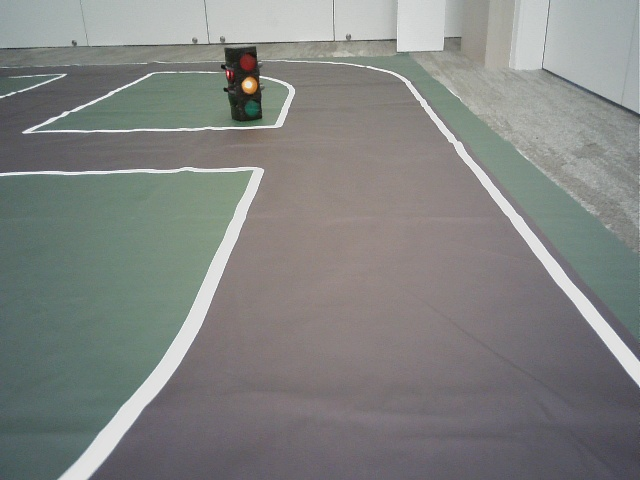yellow: (235, 50, 260, 114)
